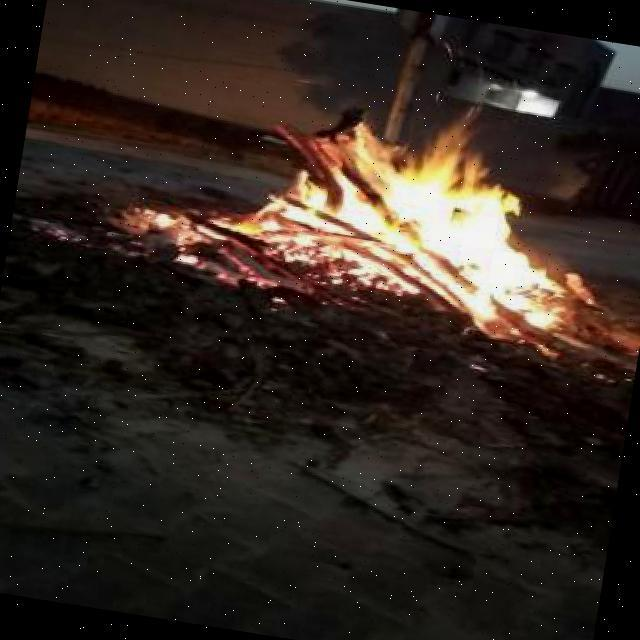Fire: (246, 75, 598, 327)
